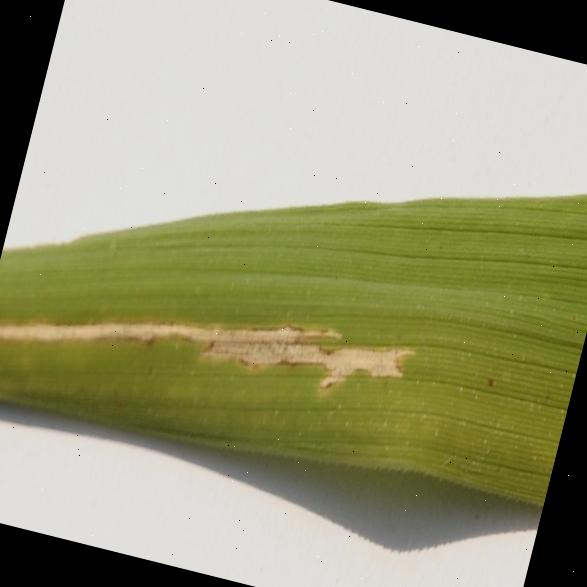Bacteria_Leaf_Blight: (22, 229, 429, 441)
